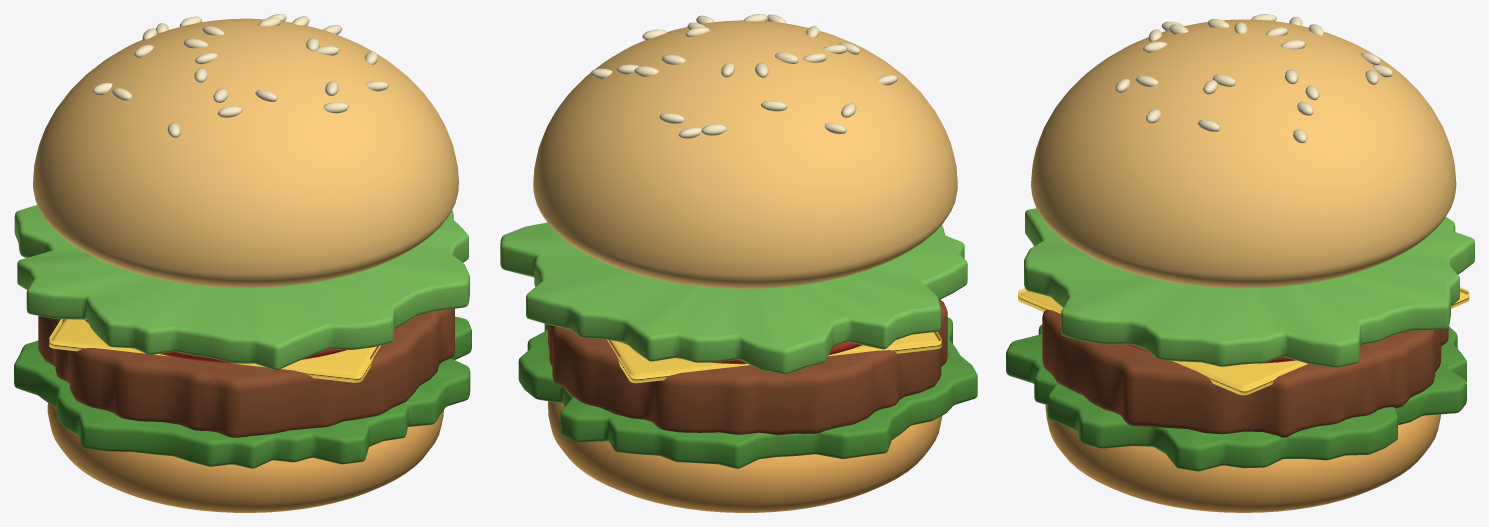
File: burger.glb
The picture shows the model from 3 angles, left to right: view 1: azimuth 30°, elevation 25°; view 2: azimuth 150°, elevation 25°; view 3: azimuth 270°, elevation 25°; orthographic projection.
Parts seen in each view (by area): view 1: Burger; view 2: Burger; view 3: Burger.
Part boxes in pixels (<box>): Burger: <box>14,14,471,512</box>; Burger: <box>500,14,977,512</box>; Burger: <box>1006,14,1474,512</box>.
Size of the model in its own units: 0.1979 by 0.1849 by 0.1984.
